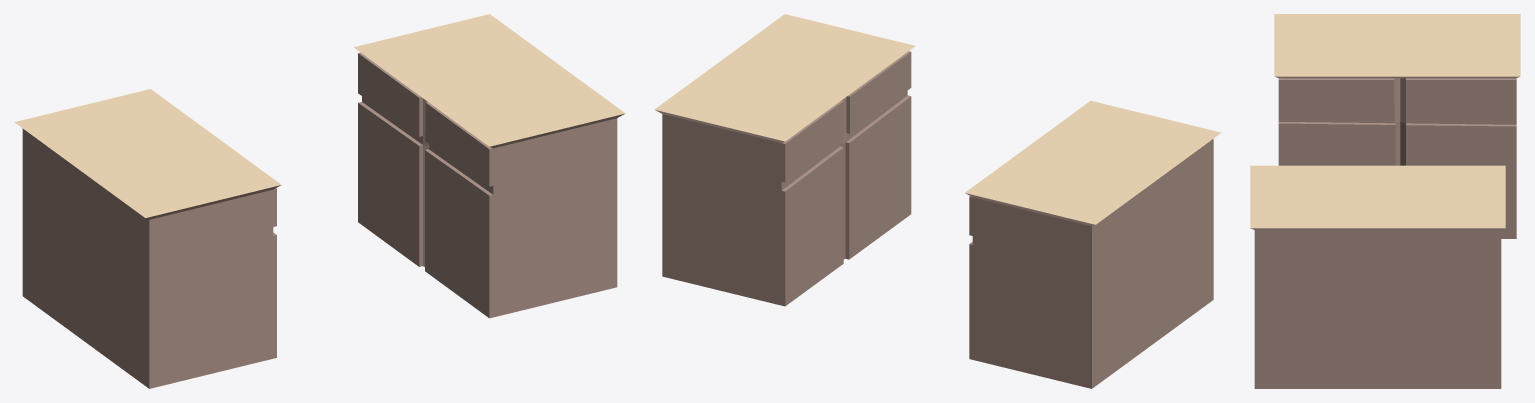
Rendered from dulltable.fbx.
The picture shows the model from 3 angles, left to right: view 1: azimuth 30°, elevation 25°; view 2: azimuth 150°, elevation 25°; view 3: azimuth 270°, elevation 25°; orthographic projection. The views are drawn at different scales.
Parts seen in each view (by area): view 1: table3; view 2: table3; view 3: table3.
Boxes of the visible parts, bbox=[...] form: table3: bbox=[14, 14, 625, 388]; table3: bbox=[654, 14, 1221, 388]; table3: bbox=[1250, 14, 1520, 388].
Size of the model in its own units: 221 by 80.8 by 118.
